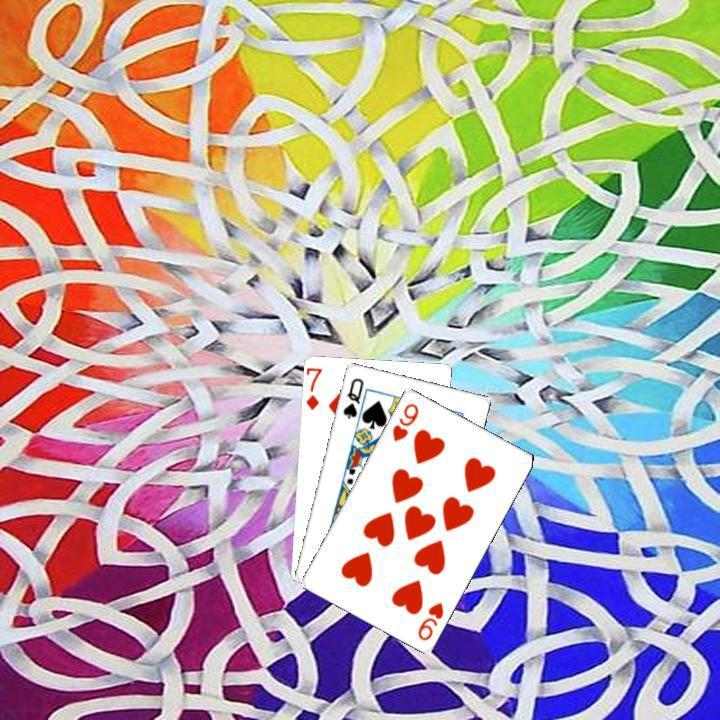7: (302, 363, 324, 412)
9: (388, 398, 421, 443), (413, 597, 446, 642)
Q: (338, 373, 365, 420)
